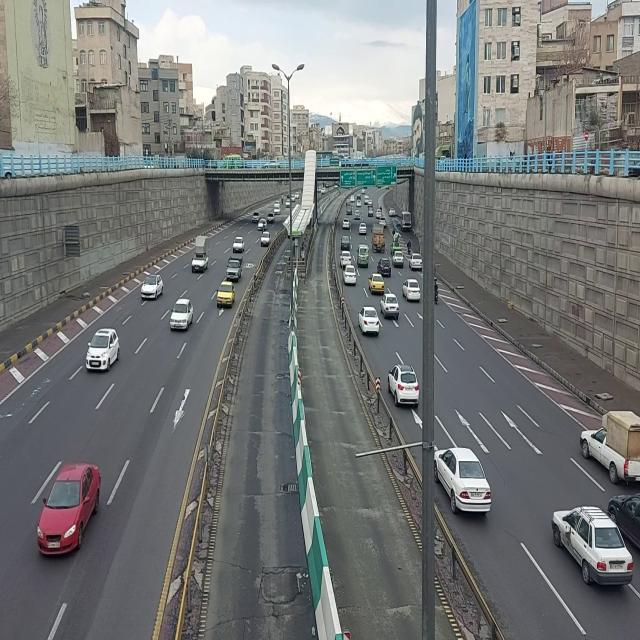Car: (552, 500, 636, 593), (36, 458, 106, 558), (579, 405, 640, 488), (436, 439, 496, 520), (84, 322, 118, 378), (388, 357, 422, 409), (169, 294, 195, 334), (358, 304, 382, 340), (141, 275, 165, 302), (216, 281, 236, 310), (380, 293, 400, 321), (402, 277, 422, 303), (368, 272, 385, 295), (377, 257, 392, 278), (342, 265, 356, 287), (409, 253, 423, 272), (233, 237, 245, 255), (392, 251, 404, 269), (339, 250, 351, 266), (260, 231, 271, 248), (390, 241, 402, 255), (340, 235, 350, 251), (251, 211, 261, 225), (258, 218, 267, 231), (359, 222, 367, 236), (267, 213, 276, 225), (342, 218, 350, 231), (354, 208, 362, 220), (273, 205, 281, 215), (388, 207, 396, 217), (376, 209, 382, 220)
Motorcycle: (434, 275, 440, 307), (406, 237, 412, 256), (261, 220, 265, 232), (281, 195, 285, 206)
Pickup: (190, 234, 210, 274), (226, 256, 244, 283), (367, 206, 374, 218)
Truck: (371, 221, 387, 254)
